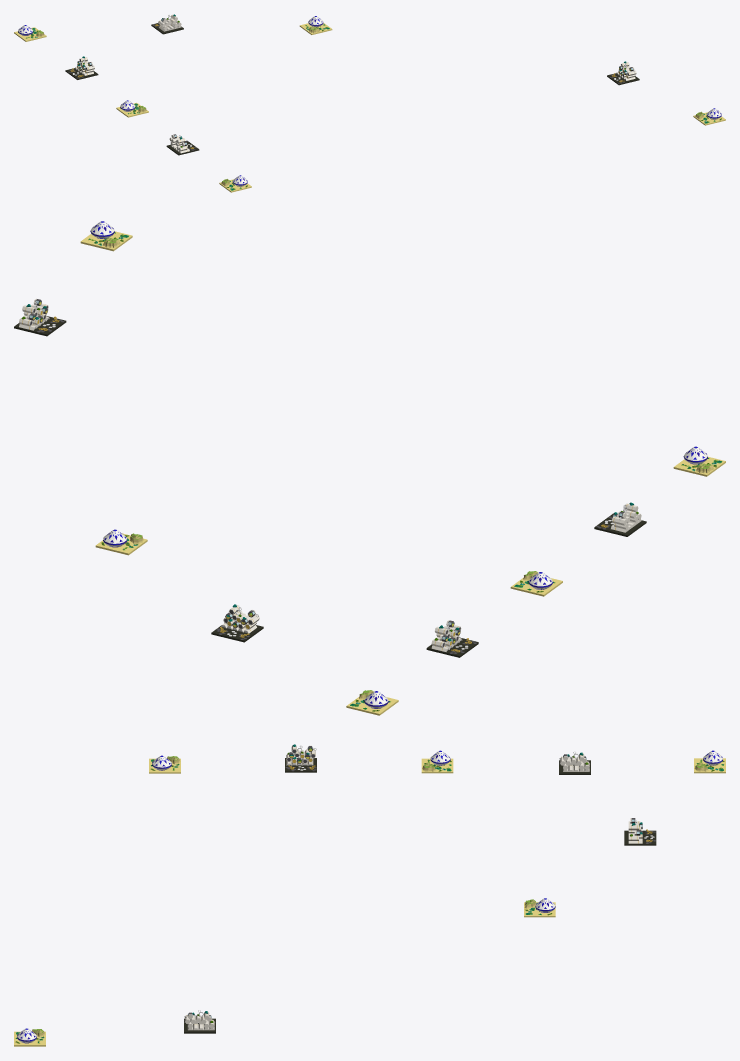
Rendered from D9_White_area_4.fbx.
The picture shows the model from 3 angles, top to bottom: view 1: azimuth 30°, elevation 25°; view 2: azimuth 150°, elevation 25°; view 3: azimuth 270°, elevation 25°; orthographic projection. The views are drawn at different scales.
Parts seen in each view (by area): view 1: Cube.360, Cube.353, Cube.355, Cube.358, Cube.359, Cube.357, Cube.361, Cube.356, Cube.354; view 2: Cube.358, Cube.353, Cube.360, Cube.355, Cube.357, Cube.361, Cube.359, Cube.354, Cube.356; view 3: Cube.355, Cube.358, Cube.360, Cube.353, Cube.356, Cube.354, Cube.359, Cube.361, Cube.357.
Boxes of the visible parts, x1,y1,x2,y2 form: Cube.360: (607,61,639,85); Cube.353: (65,56,98,79); Cube.355: (166,134,199,155); Cube.358: (151,14,183,34); Cube.359: (299,16,332,34); Cube.357: (219,175,251,192); Cube.361: (693,108,725,125); Cube.356: (116,100,148,117); Cube.354: (14,25,46,41); Cube.358: (211,604,263,642); Cube.353: (426,620,478,657); Cube.360: (14,298,66,336); Cube.355: (594,502,646,536); Cube.357: (673,446,725,476); Cube.361: (80,221,132,251); Cube.359: (95,529,147,555); Cube.354: (346,690,398,715); Cube.356: (510,571,562,596); Cube.355: (285,744,316,772); Cube.358: (624,818,656,845); Cube.360: (184,1010,215,1033); Cube.353: (559,751,590,774); Cube.356: (421,750,453,773); Cube.354: (694,750,725,773); Cube.359: (524,898,555,917); Cube.361: (14,1028,45,1046); Cube.357: (149,755,180,773).
Size of the model in its own units: 85721 by 2722 by 89406.
Materials: 11 (9 with a texture image).
